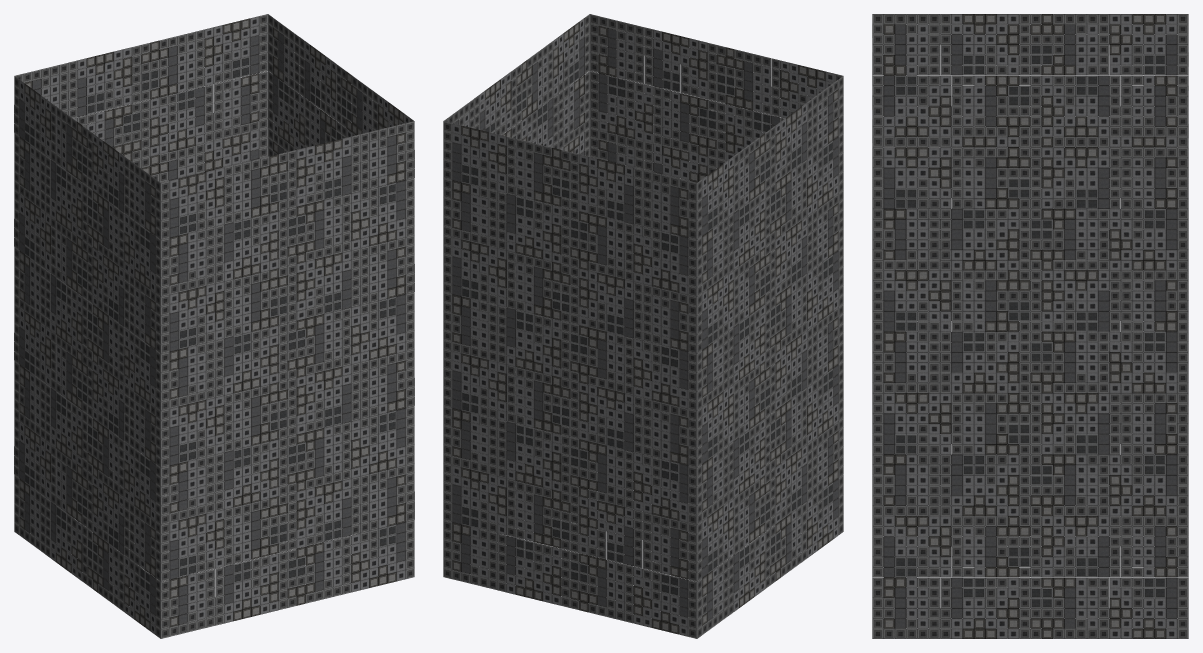
File: tour.fbx
The picture shows the model from 3 angles, left to right: view 1: azimuth 30°, elevation 25°; view 2: azimuth 150°, elevation 25°; view 3: azimuth 270°, elevation 25°; orthographic projection. The views are drawn at different scales.
Parts seen in each view (by area): view 1: tour; view 2: tour; view 3: tour.
Boxes of the visible parts, x1=… form: tour: x1=14, y1=14, x2=414, y2=638; tour: x1=443, y1=14, x2=843, y2=638; tour: x1=872, y1=14, x2=1188, y2=638.
Bounding box in the file's own units: 1401 × 2401 × 1401.
